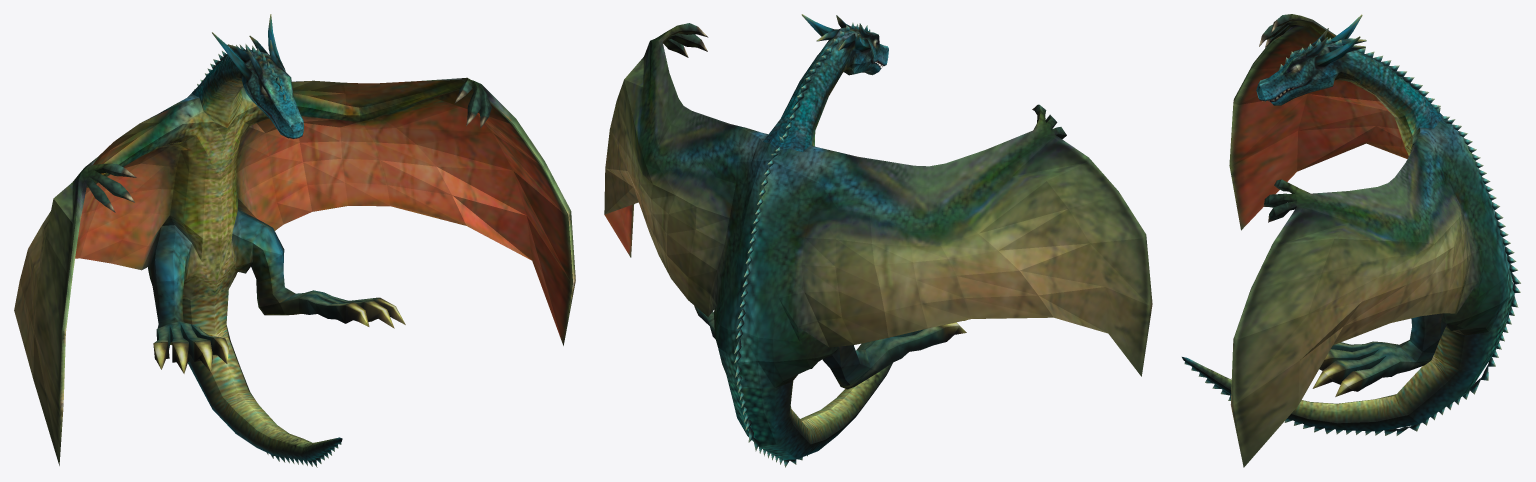
Rendered from Wyvern.fbx.
The picture shows the model from 3 angles, left to right: view 1: azimuth 30°, elevation 25°; view 2: azimuth 150°, elevation 25°; view 3: azimuth 270°, elevation 25°; orthographic projection. The views are drawn at different scales.
Visible parts, largest first — view 1: Body; view 2: Body; view 3: Body.
Part boxes in pixels (x1,y1,x2,y2): Body: (14,14,575,467); Body: (604,14,1152,467); Body: (1182,14,1520,467).
Bounding box in the file's own units: 1777 × 1414 × 1073.
Materials: 1 (1 with a texture image).
